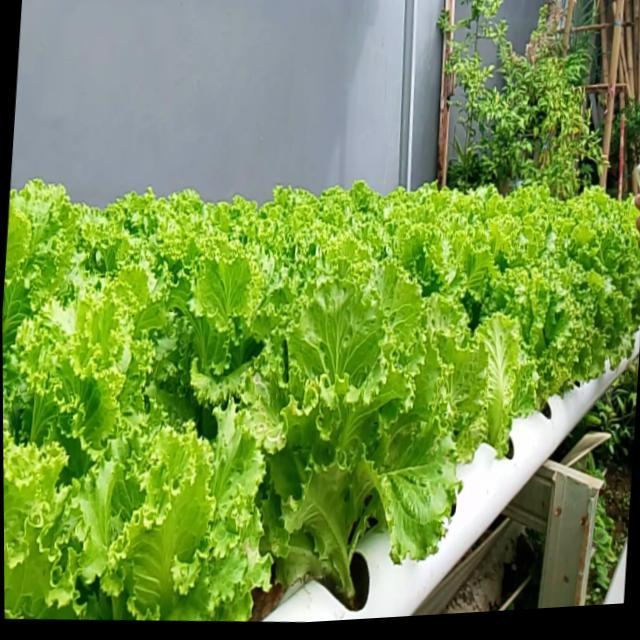Mature: (2, 186, 640, 621), (250, 280, 476, 619), (495, 266, 604, 433)
